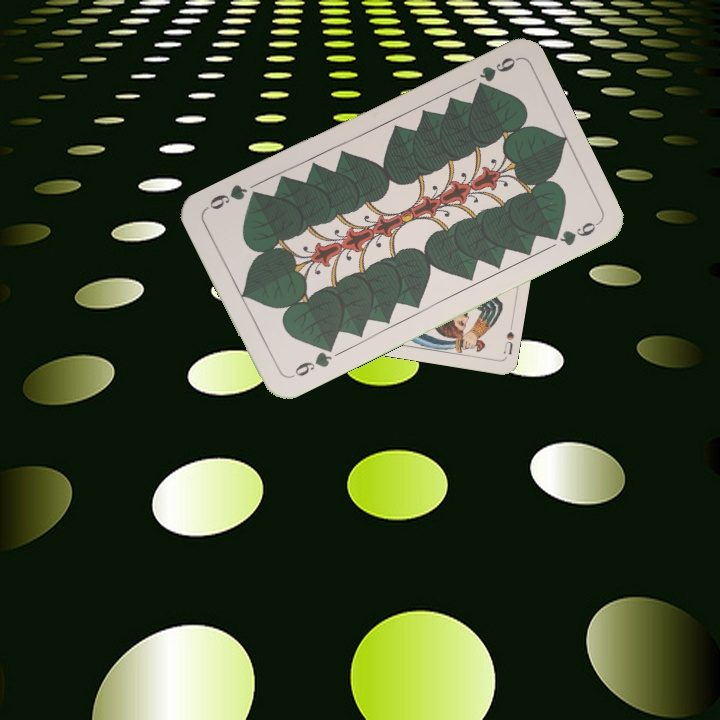G9: (285, 340, 336, 381), (472, 53, 519, 92)
SU: (500, 327, 517, 357)
